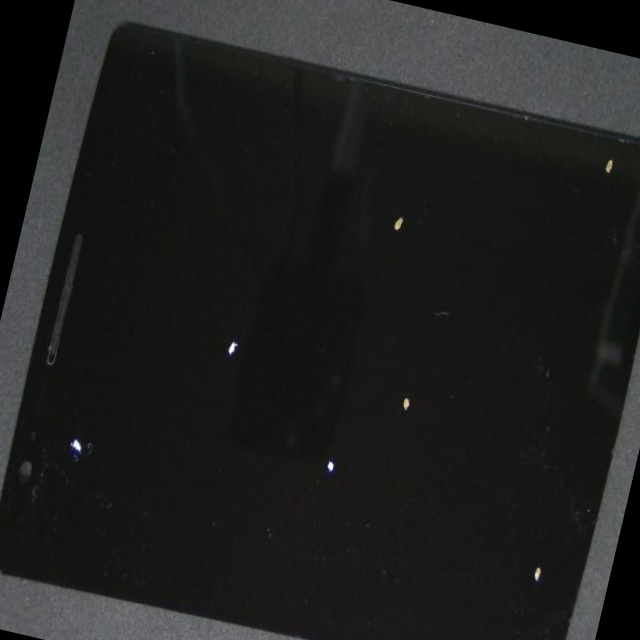stain: (112, 169, 640, 640), (117, 138, 556, 640), (188, 285, 640, 640), (81, 91, 374, 536), (188, 6, 590, 327), (0, 132, 187, 640), (271, 40, 640, 279)
